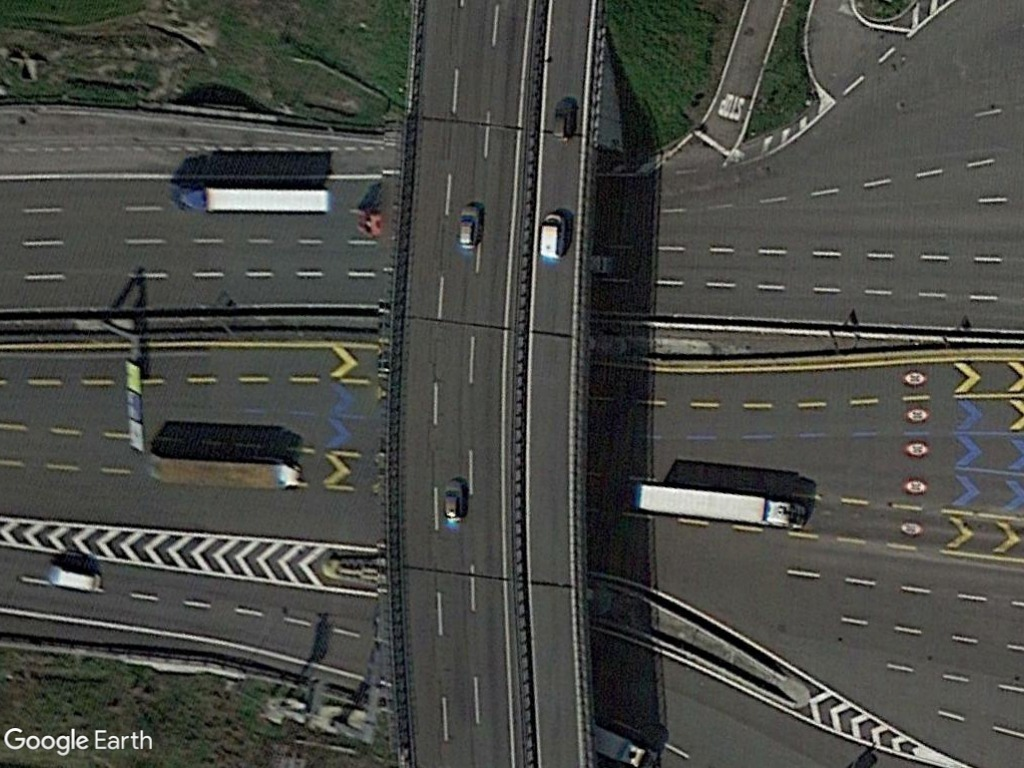car: (455, 202, 484, 251), (440, 476, 467, 522)
longvehicle: (631, 478, 812, 530), (144, 447, 307, 492), (163, 181, 335, 217)
van: (540, 210, 567, 260), (551, 98, 578, 143)
